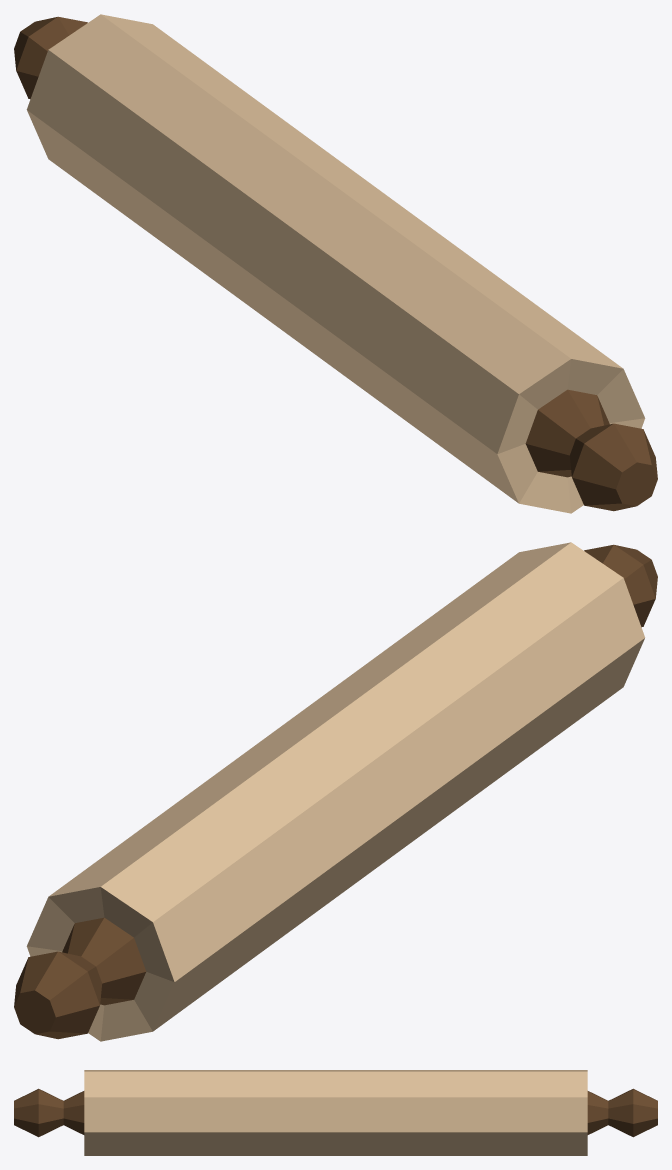
Rendered from egypt_egypt-papyrus-rolled.fbx.
The picture shows the model from 3 angles, top to bottom: view 1: azimuth 30°, elevation 25°; view 2: azimuth 150°, elevation 25°; view 3: azimuth 270°, elevation 25°; orthographic projection. The views are drawn at different scales.
Parts seen in each view (by area): view 1: egypt_egypt_papyrus_rolled; view 2: egypt_egypt_papyrus_rolled; view 3: egypt_egypt_papyrus_rolled.
Boxes of the visible parts, x1,y1,x2,y2 form: egypt_egypt_papyrus_rolled: (14, 14, 657, 513); egypt_egypt_papyrus_rolled: (14, 542, 657, 1041); egypt_egypt_papyrus_rolled: (14, 1070, 657, 1155).
Size of the model in its own units: 28.37 by 28.37 by 200.
